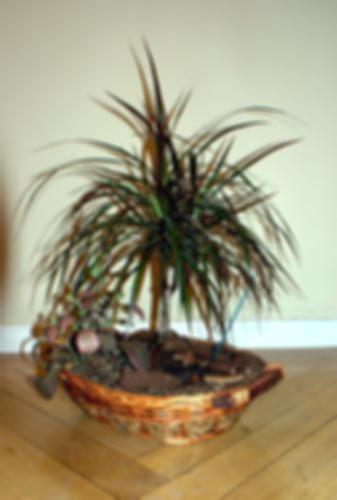Matera: (18, 49, 333, 439)
